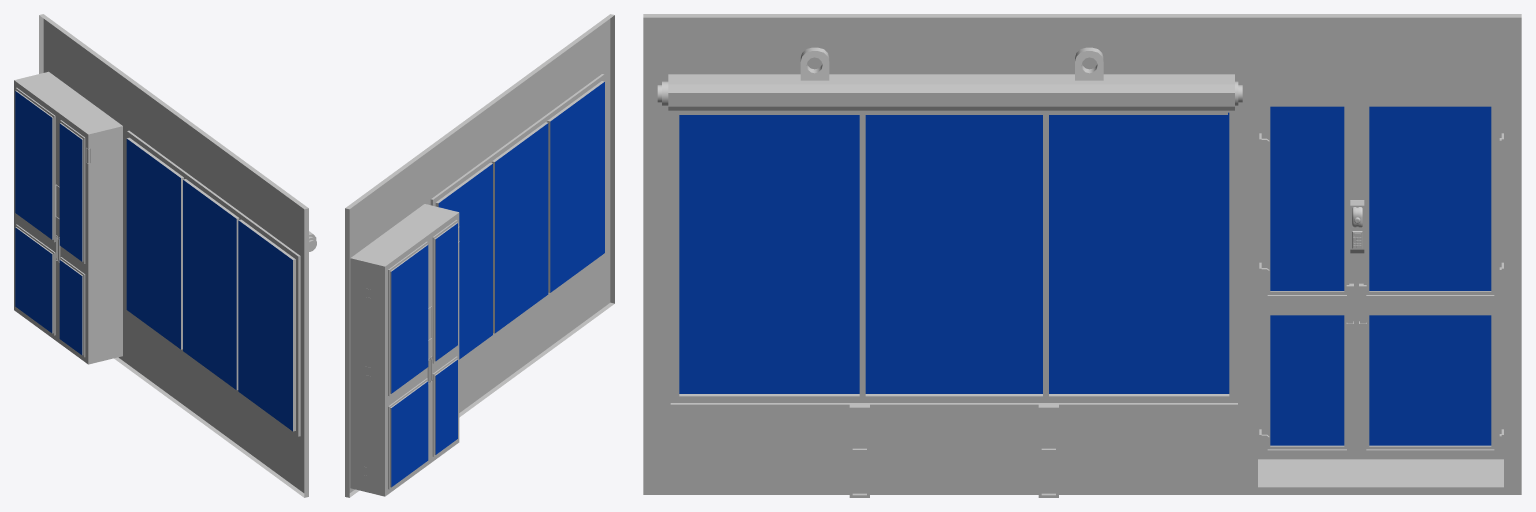
Rendered from Showcase_2.1.fbx.
3 renders of one model, left to right at view 1: azimuth 30°, elevation 25°; view 2: azimuth 150°, elevation 25°; view 3: azimuth 270°, elevation 25°, orthographic. The views are drawn at different scales.
Parts seen in each view (by area): view 1: Showcase_2.1; view 2: Showcase_2.1; view 3: Showcase_2.1.
Boxes of the visible parts, box(x1,y1,x2,y2) form: Showcase_2.1: box(14, 14, 316, 497); Showcase_2.1: box(345, 14, 614, 497); Showcase_2.1: box(643, 14, 1521, 497).
Bounding box in the file's own units: 0.5666 × 3 × 5.
